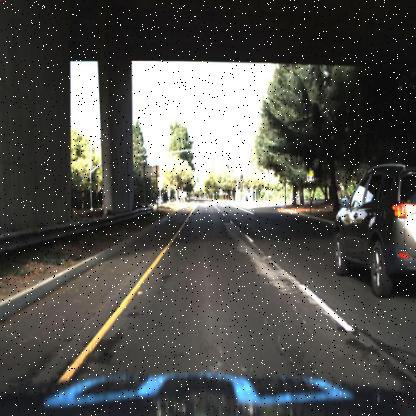car: (332, 160, 416, 299), (155, 192, 165, 207)
trafficLight-Green: (239, 171, 244, 188)
